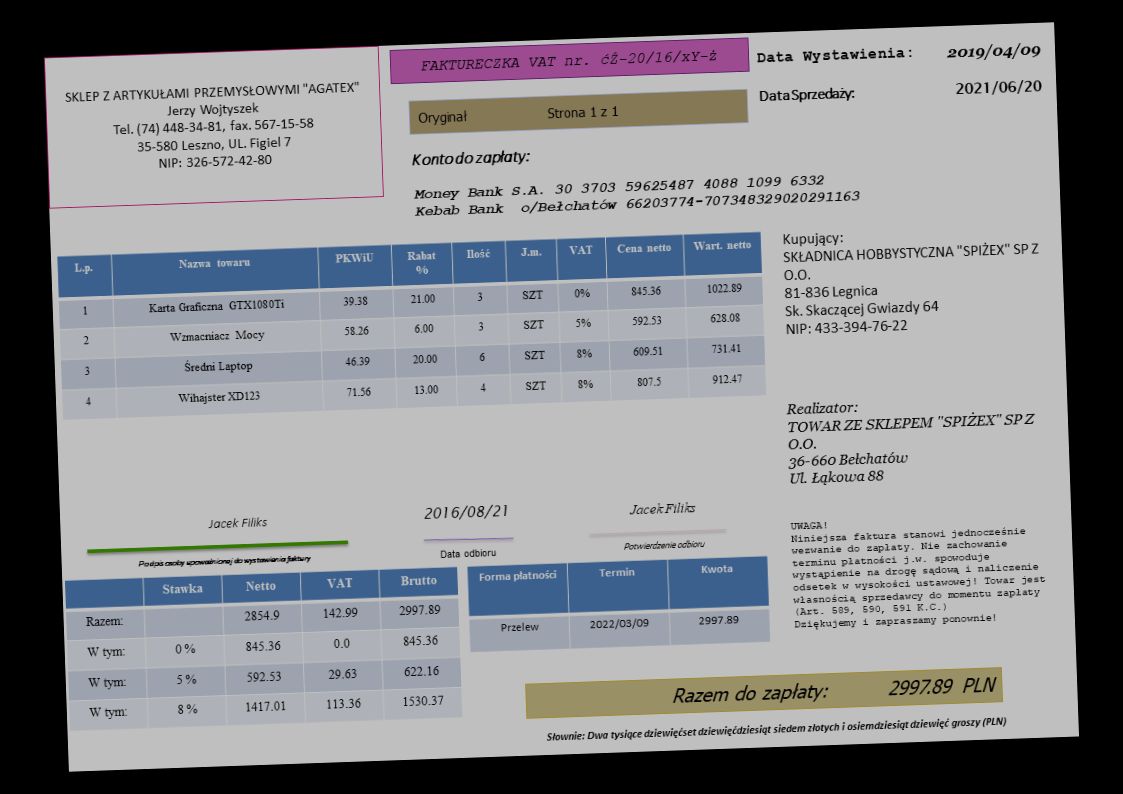Table: (55, 229, 769, 422), (63, 564, 464, 733), (465, 553, 772, 653)
TextBox: (779, 220, 1047, 341), (787, 510, 1050, 632), (60, 76, 365, 176), (783, 391, 1040, 489), (410, 170, 862, 220), (543, 712, 1010, 747), (668, 672, 999, 708), (418, 47, 721, 74), (415, 100, 622, 129), (135, 550, 313, 573), (753, 43, 914, 67), (407, 144, 533, 172), (755, 82, 857, 107), (419, 500, 510, 525), (943, 42, 1045, 64), (953, 76, 1042, 100), (625, 497, 699, 519), (619, 536, 709, 554), (205, 513, 271, 533), (438, 545, 498, 561)
